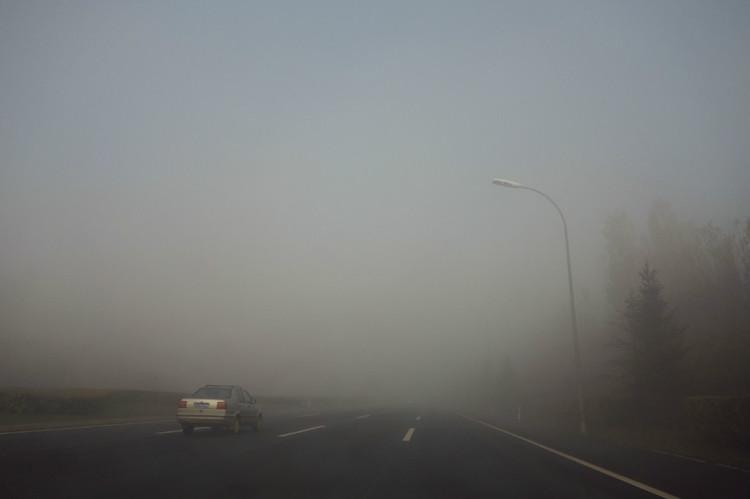car: (175, 383, 265, 435)
